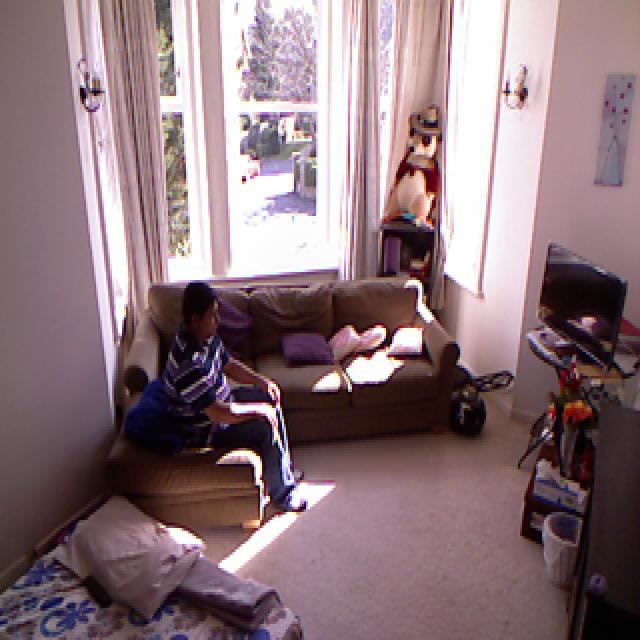sitting: (168, 273, 315, 532)
